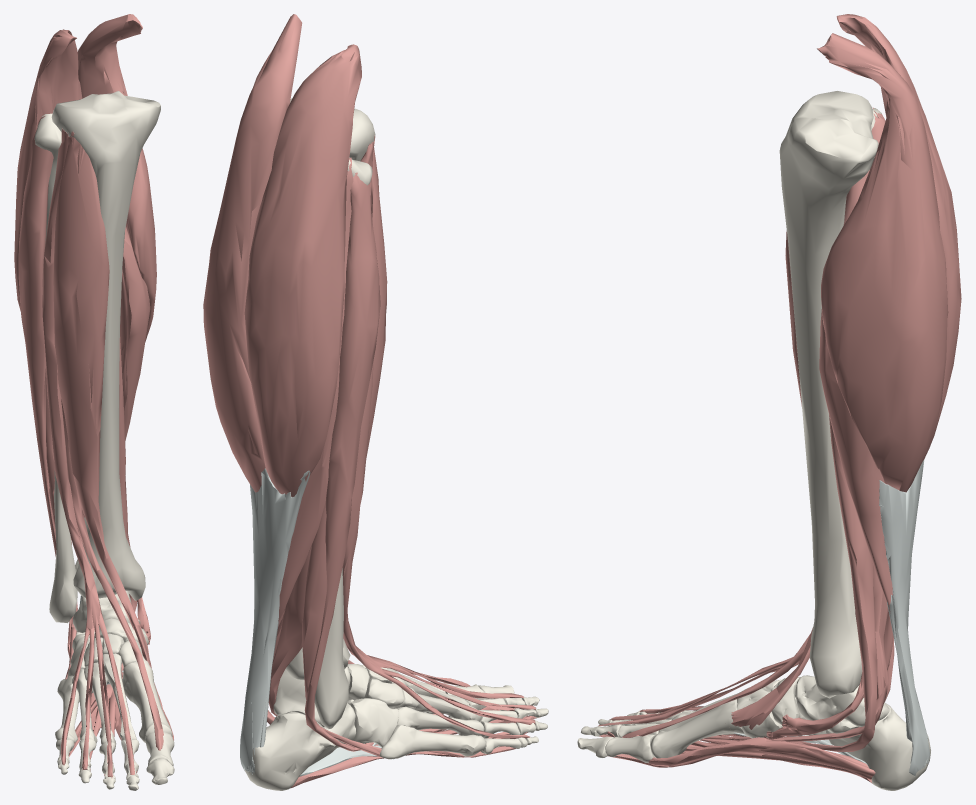
File: foot.glb
3 views of the same model, side by side, from view 1: azimuth 30°, elevation 25°; view 2: azimuth 150°, elevation 25°; view 3: azimuth 270°, elevation 25° (orthographic). The views are drawn at different scales.
Parts seen in each view (by area): view 1: tibialis_anterior, tibia, extensor_digitorum_longus, fibularis_longus, gastrocnemius_medial, metatarsals, gastrocnemius_lateral, soleus, fibula, phalanges, extensor_hallucis_longus, flexor_digitorum_longus (+7 smaller); view 2: gastrocnemius_lateral, gastrocnemius_medial, fibularis_longus, calcaneal_tendon, extensor_digitorum_longus, metatarsals, calcaneus, soleus, fibula, fibularis_brevis, phalanges, flexor_hallucis_longus (+9 smaller); view 3: gastrocnemius_medial, tibia, calcaneal_tendon, soleus, flexor_digitorum_longus, gastrocnemius_lateral, calcaneus, abductor_hallucis, metatarsals, phalanges, flexor_hallucis_longus, tibialis_anterior (+7 smaller).
Boxes of the visible parts, x1,y1,x2,y2 form: tibialis_anterior: (53,136,151,668); tibia: (51,91,160,600); extensor_digitorum_longus: (42,128,134,778); fibularis_longus: (18,128,123,678); gastrocnemius_medial: (77,14,156,341); metatarsals: (55,653,172,746); gastrocnemius_lateral: (14,29,82,310); soleus: (36,115,150,440); fibula: (34,113,77,623); phalanges: (56,731,174,790); extensor_hallucis_longus: (61,399,163,750); flexor_digitorum_longus: (69,337,137,758); gastrocnemius_lateral: (244,44,361,497); gastrocnemius_medial: (203,14,302,492); fibularis_longus: (304,172,380,751); calcaneal_tendon: (240,468,310,774); extensor_digitorum_longus: (342,135,535,738); metatarsals: (379,669,486,759); calcaneus: (245,701,356,790); soleus: (278,157,353,621); fibula: (314,157,372,728); fibularis_brevis: (302,503,381,756); phalanges: (444,683,548,754); flexor_hallucis_longus: (268,546,443,715); gastrocnemius_medial: (817,33,948,492); tibia: (779,91,878,698); calcaneal_tendon: (879,459,929,776); soleus: (819,107,892,613); flexor_digitorum_longus: (599,415,877,751); gastrocnemius_lateral: (836,14,961,460); calcaneus: (824,702,930,790); abductor_hallucis: (648,737,875,779); metatarsals: (650,687,748,758); phalanges: (577,710,695,762); flexor_hallucis_longus: (608,563,888,767); tibialis_anterior: (731,231,812,729).
Bounding box in the file's own units: 0.1476 × 0.5048 × 0.2302.
